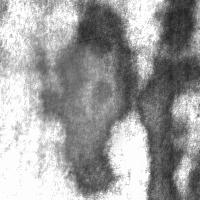patches: (38, 3, 136, 194), (0, 32, 121, 170), (3, 50, 125, 172), (137, 47, 199, 199), (0, 127, 72, 200), (155, 1, 198, 56)
